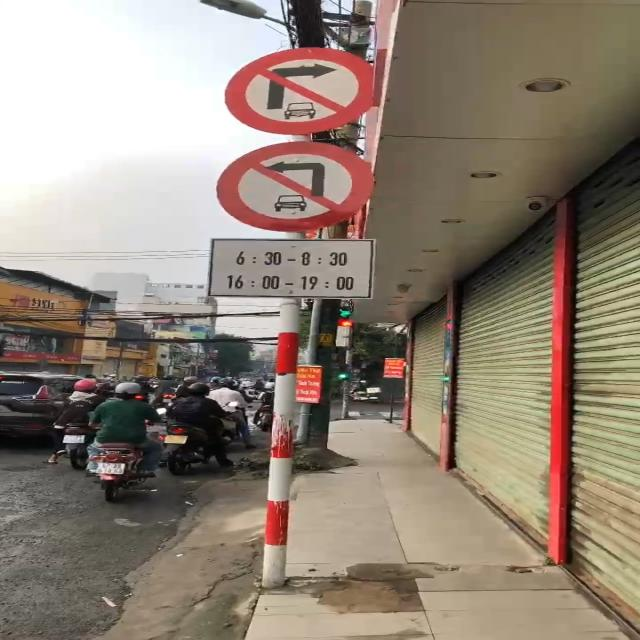Bien bao cam xe o to re phai: (222, 40, 371, 136)
Bien bao cam xe o to re trai: (200, 138, 408, 248)
